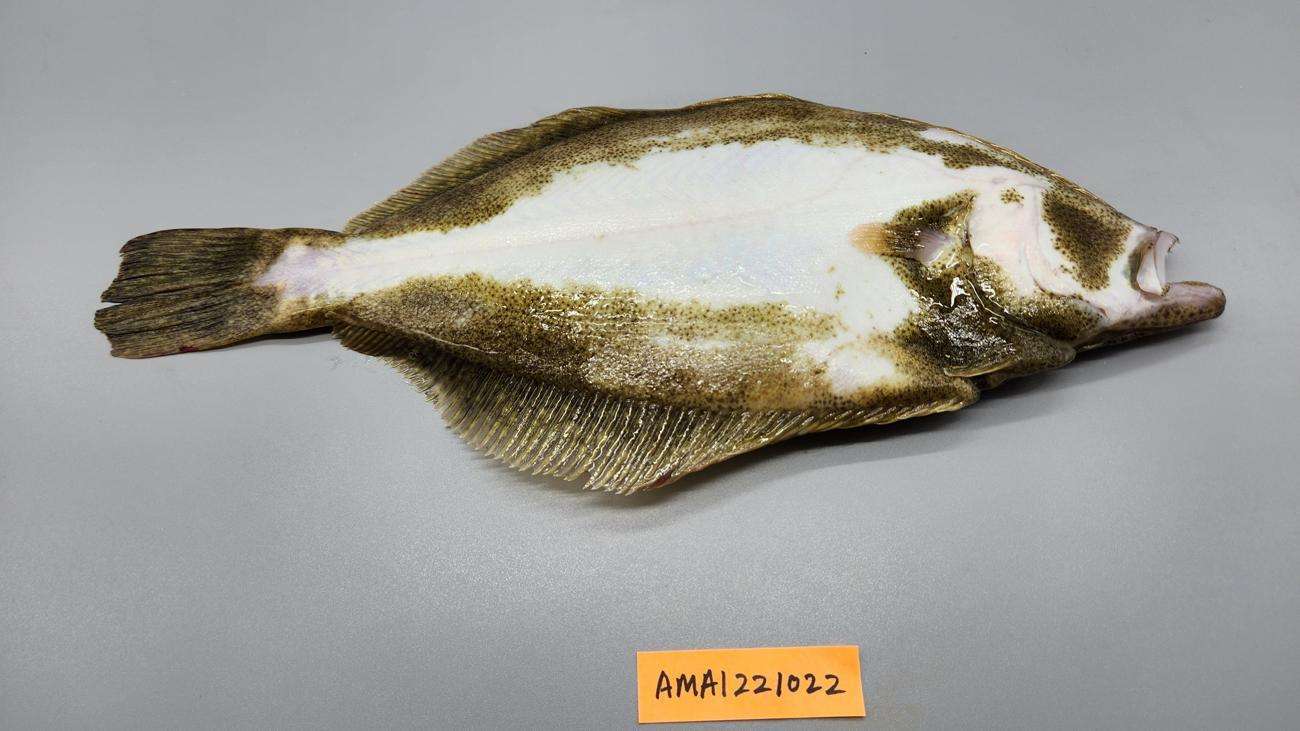MAFCH: (97, 309, 227, 359)
MAOUY: (98, 94, 1226, 494)
